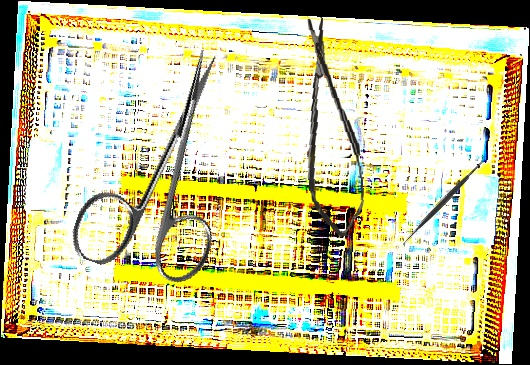Iris Scissors: (65, 29, 271, 297)
Micro Scissor: (294, 15, 368, 239)
Spatula Surgical: (397, 152, 491, 250)
